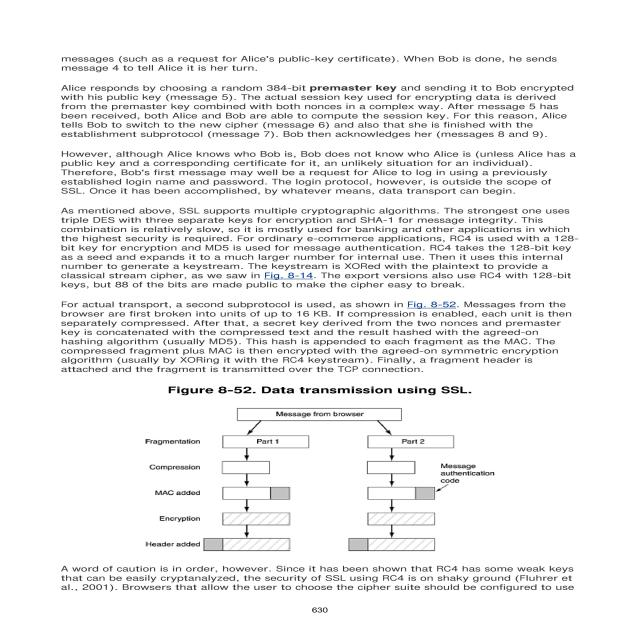diagram: (67, 377, 564, 559)
